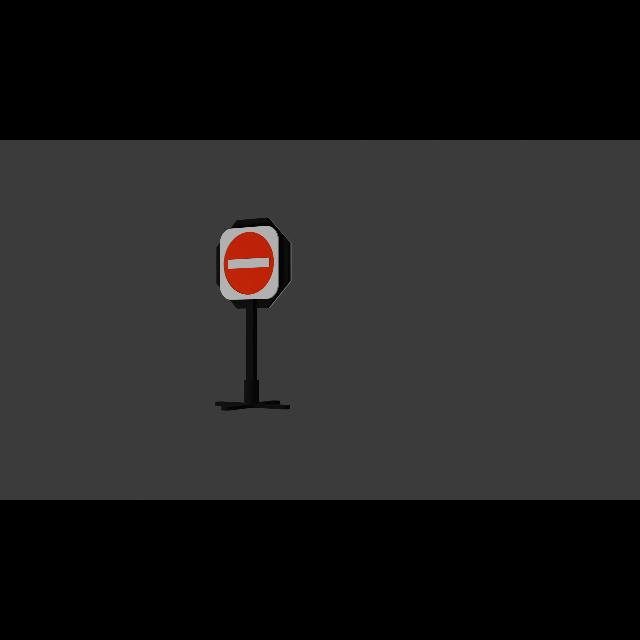sign_noentry: (222, 229, 279, 303)
